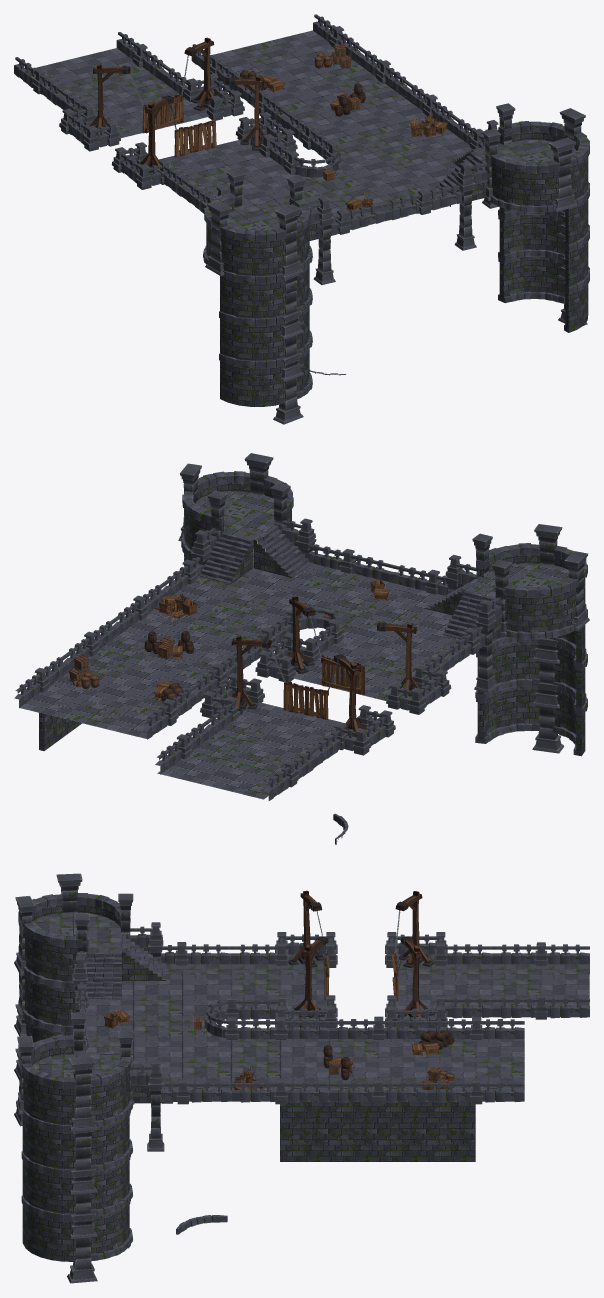
Rendered from ExteriorWalls1.gltf.
3 views of the same model, one above another, from view 1: azimuth 30°, elevation 25°; view 2: azimuth 150°, elevation 25°; view 3: azimuth 270°, elevation 25° (orthographic). The views are drawn at different scales.
Visible parts, largest first — view 1: ExteriorWalls1; view 2: ExteriorWalls1; view 3: ExteriorWalls1.
Boxes of the visible parts, x1,y1,x2,y2 form: ExteriorWalls1: [14, 14, 589, 424]; ExteriorWalls1: [14, 453, 589, 844]; ExteriorWalls1: [14, 873, 589, 1283].
Bounding box in the file's own units: 37.25 × 24.91 × 47.11.
Materials: 13 (13 with a texture image).
